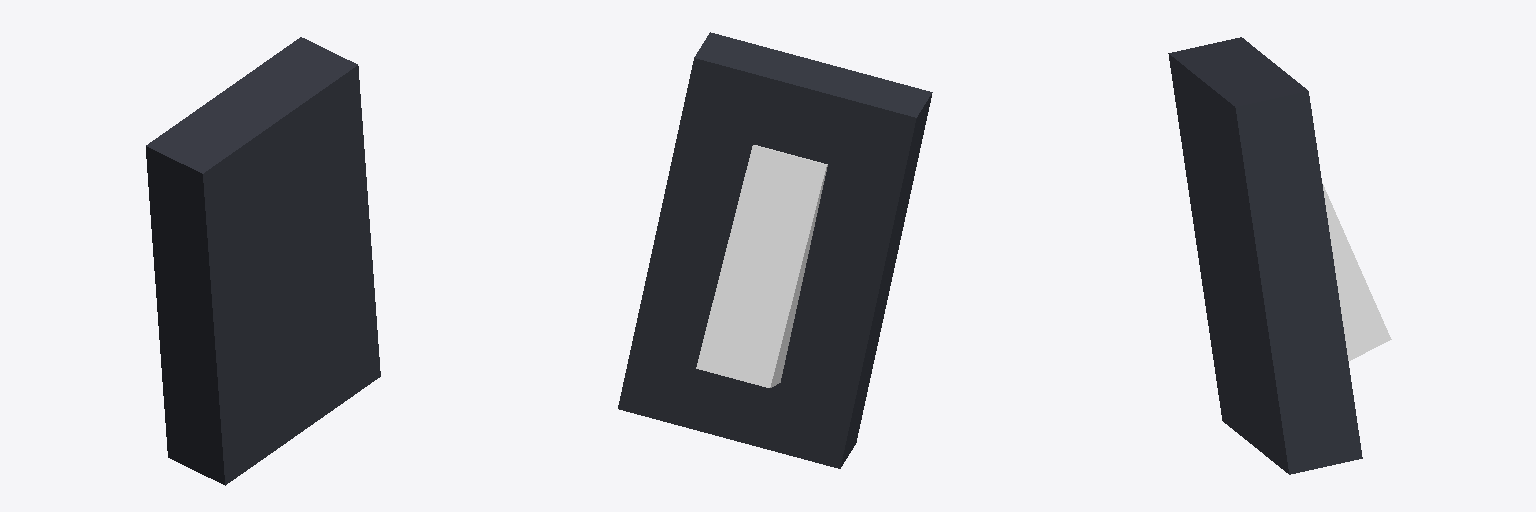
File: switch.obj
The picture shows the model from 3 angles: view 1: azimuth 30°, elevation 25°; view 2: azimuth 150°, elevation 25°; view 3: azimuth 270°, elevation 25°; orthographic projection.
Parts seen in each view (by area): view 1: SwitchBase; view 2: SwitchBase, SwitchKey; view 3: SwitchBase, SwitchKey.
Boxes of the visible parts, x1,y1,x2,y2 form: SwitchBase: [146, 37, 380, 485]; SwitchBase: [618, 32, 932, 468]; SwitchKey: [696, 145, 827, 387]; SwitchBase: [1168, 37, 1362, 474]; SwitchKey: [1322, 183, 1391, 360].
Bounding box in the file's own units: 0.3672 × 0.5256 × 0.2738.